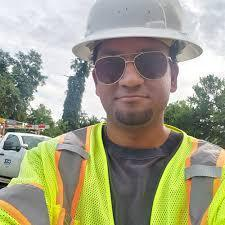helmet: (71, 0, 203, 62)
